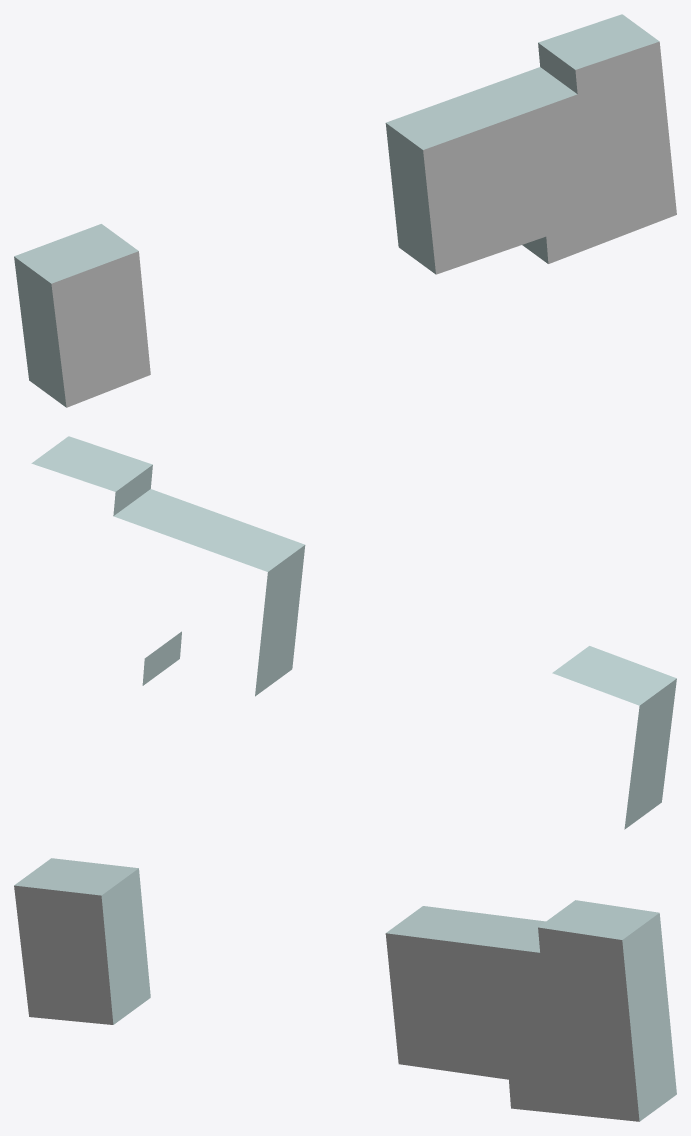
3 views of the same model, one above another, from view 1: azimuth 30°, elevation 25°; view 2: azimuth 150°, elevation 25°; view 3: azimuth 330°, elevation 25° (orthographic).
Parts seen in each view (by area): view 1: 0_3_1_2_0_0_3_3_3; view 2: 0_3_1_2_0_0_3_3_3; view 3: 0_3_1_2_0_0_3_3_3.
Part boxes in pixels (x1=…): 0_3_1_2_0_0_3_3_3: x1=14, y1=14, x2=676, y2=407; 0_3_1_2_0_0_3_3_3: x1=31, y1=436, x2=676, y2=829; 0_3_1_2_0_0_3_3_3: x1=14, y1=858, x2=676, y2=1121.
Size of the model in its own units: 28.95 by 9.8 by 3.
